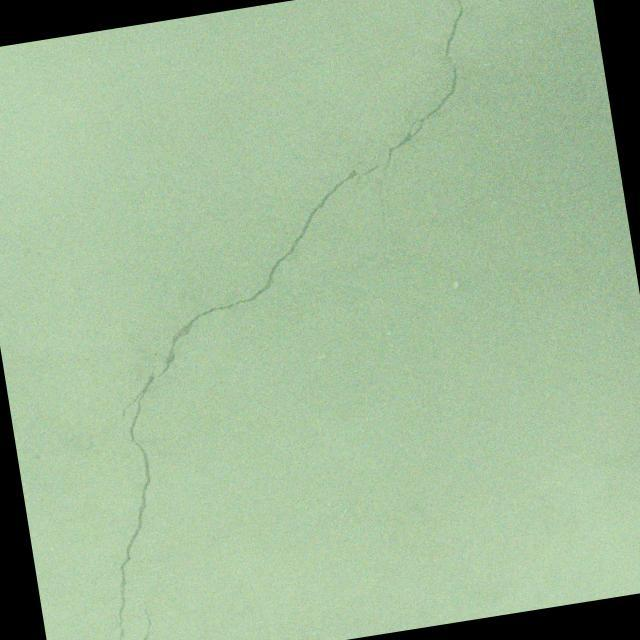crack: (45, 157, 436, 640), (345, 0, 495, 221), (129, 595, 159, 640), (346, 163, 384, 197), (142, 349, 164, 368), (372, 150, 386, 160)
